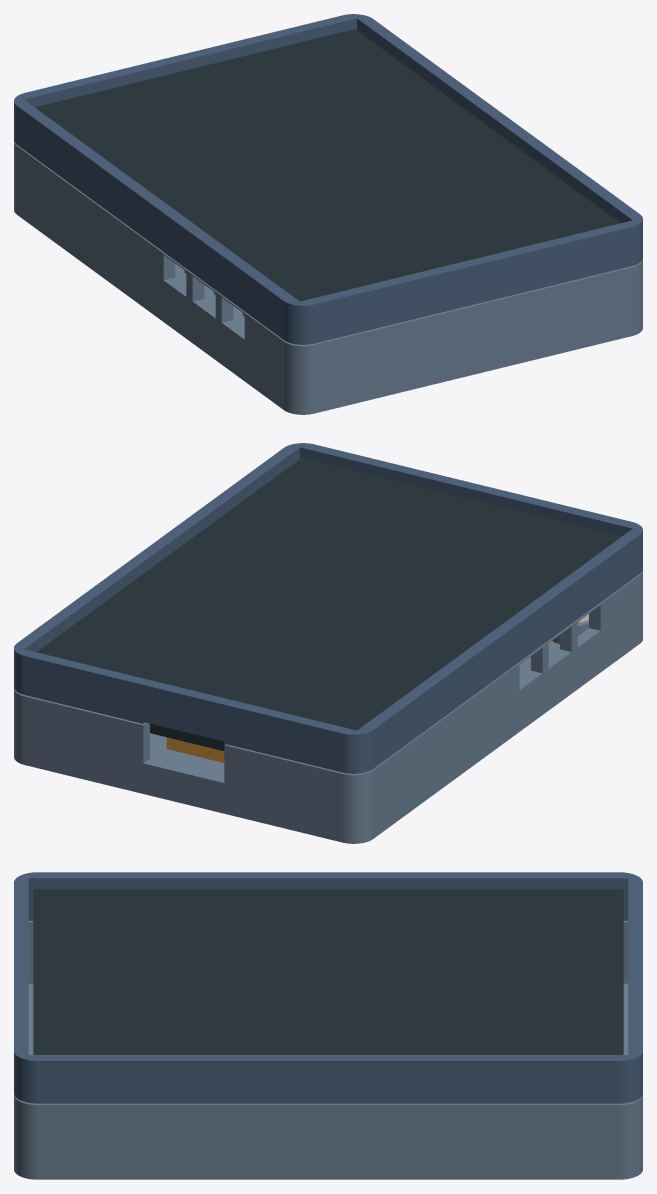
Rendered from assembly_light.glb.
The picture shows the model from 3 angles, top to bottom: view 1: azimuth 30°, elevation 25°; view 2: azimuth 150°, elevation 25°; view 3: azimuth 270°, elevation 25°; orthographic projection. The views are drawn at different scales.
Visible parts, largest first — view 1: DISPLAY_ENVELOPE_NOT_DETAIL, REAR_shell_P0_with_PCB_supports, FRONT_shell_P0; view 2: DISPLAY_ENVELOPE_NOT_DETAIL, REAR_shell_P0_with_PCB_supports, FRONT_shell_P0, J2_USB_SIDE_ENVELOPE_NOT_DETAIL; view 3: DISPLAY_ENVELOPE_NOT_DETAIL, REAR_shell_P0_with_PCB_supports, FRONT_shell_P0.
Part boxes in pixels (x1,y1,x2,y2): DISPLAY_ENVELOPE_NOT_DETAIL: [35, 29, 620, 301]; REAR_shell_P0_with_PCB_supports: [14, 141, 642, 414]; FRONT_shell_P0: [14, 14, 642, 344]; DISPLAY_ENVELOPE_NOT_DETAIL: [36, 458, 621, 750]; REAR_shell_P0_with_PCB_supports: [14, 570, 642, 843]; FRONT_shell_P0: [14, 443, 642, 773]; J2_USB_SIDE_ENVELOPE_NOT_DETAIL: [166, 737, 224, 762]; DISPLAY_ENVELOPE_NOT_DETAIL: [33, 889, 623, 1054]; REAR_shell_P0_with_PCB_supports: [14, 921, 642, 1179]; FRONT_shell_P0: [14, 872, 642, 1103].
Bounding box in the file's own units: 0.0553 × 0.0162 × 0.0779.
